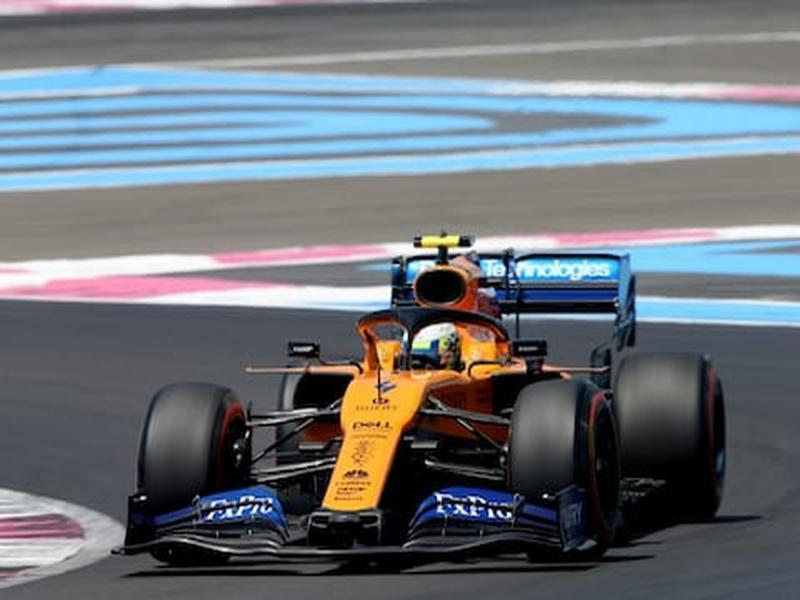f1: (105, 192, 743, 585)
